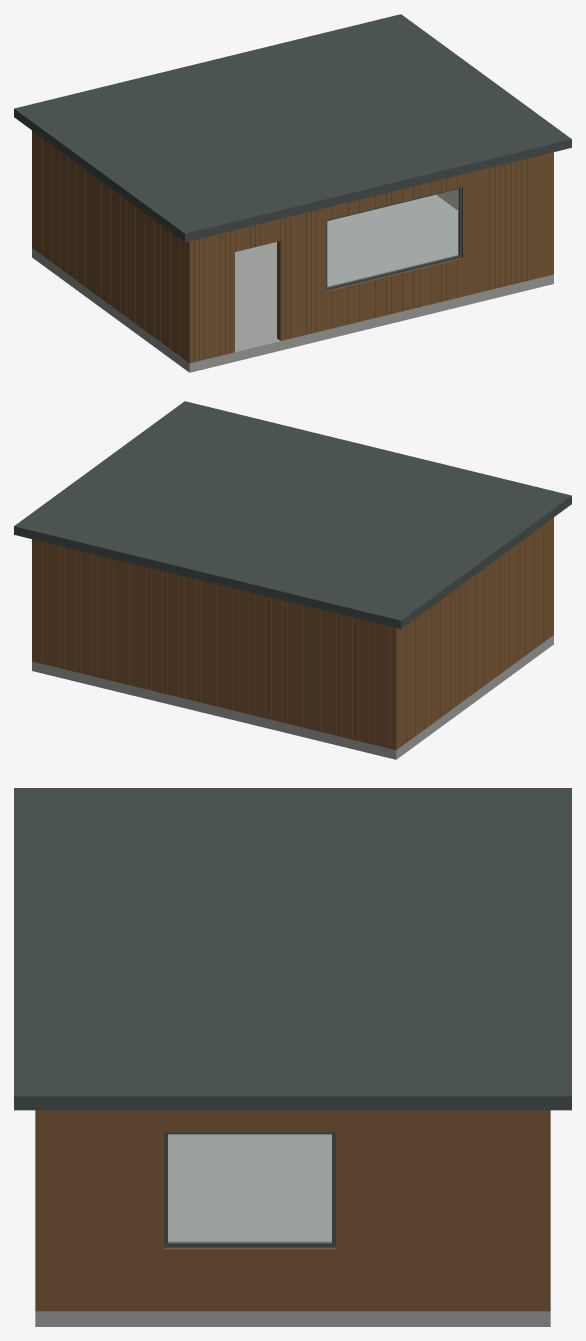
The model's file is building.glb.
3 renders of one model, top to bottom at view 1: azimuth 30°, elevation 25°; view 2: azimuth 150°, elevation 25°; view 3: azimuth 270°, elevation 25°, orthographic. The views are drawn at different scales.
Visible parts, largest first — view 1: Concept flat roof — structure unassessed, Concrete slab, Indicative glazing south, Generic timber profile.077, Generic timber profile.003, Generic timber profile.020, Generic timber profile.081, Generic timber profile.083, Generic timber profile.084, Generic timber profile.089, Generic timber profile.090, Generic timber profile.092 (+67 smaller); view 2: Concept flat roof — structure unassessed, Concrete slab, Generic timber profile.099, Generic timber profile.115, Generic timber profile.147, Generic timber profile.156, Generic timber profile.108, Generic timber profile.124, Generic timber profile.140, Generic timber profile.131, Generic timber profile.095, Generic timber profile.096 (+97 smaller); view 3: Concept flat roof — structure unassessed, Concrete slab, Indicative glazing east, east wall 2.0, east wall 0.0, south wall 4.0, north wall 0.0, Generic timber profile.259, Generic timber profile.263, Generic timber profile.271, Generic timber profile.260, Generic timber profile.261 (+37 smaller).
Boxes of the visible parts, x1,y1,x2,y2 form: Concept flat roof — structure unassessed: (14, 14, 571, 241); Concrete slab: (32, 195, 553, 372); Indicative glazing south: (327, 189, 458, 287); Generic timber profile.077: (462, 173, 468, 296); Generic timber profile.003: (204, 236, 209, 359); Generic timber profile.020: (290, 215, 295, 338); Generic timber profile.081: (484, 168, 489, 291); Generic timber profile.083: (495, 165, 500, 288); Generic timber profile.084: (500, 164, 505, 287); Generic timber profile.089: (527, 157, 532, 280); Generic timber profile.090: (532, 156, 537, 279); Generic timber profile.092: (543, 153, 548, 276); Concept flat roof — structure unassessed: (14, 401, 571, 628); Concrete slab: (32, 635, 553, 759); Generic timber profile.099: (363, 620, 369, 743); Generic timber profile.115: (276, 599, 282, 722); Generic timber profile.147: (102, 556, 108, 679); Generic timber profile.156: (53, 544, 59, 667); Generic timber profile.108: (314, 608, 320, 731); Generic timber profile.124: (227, 587, 233, 710); Generic timber profile.140: (140, 566, 146, 688); Generic timber profile.131: (189, 578, 195, 700); Generic timber profile.095: (385, 625, 390, 748); Generic timber profile.096: (380, 624, 385, 747); Concept flat roof — structure unassessed: (14, 788, 571, 1110); Concrete slab: (35, 1134, 550, 1326); Indicative glazing east: (168, 1134, 331, 1242); east wall 2.0: (346, 1110, 537, 1310); east wall 0.0: (48, 1110, 164, 1310); south wall 4.0: (36, 1110, 48, 1311); north wall 0.0: (537, 1110, 549, 1311); Generic timber profile.259: (376, 1110, 386, 1311); Generic timber profile.263: (416, 1110, 426, 1311); Generic timber profile.271: (497, 1110, 507, 1311); Generic timber profile.260: (386, 1110, 396, 1311); Generic timber profile.261: (396, 1110, 406, 1311).
Bounding box in the file's own units: 8.5 × 3.08 × 6.5.
